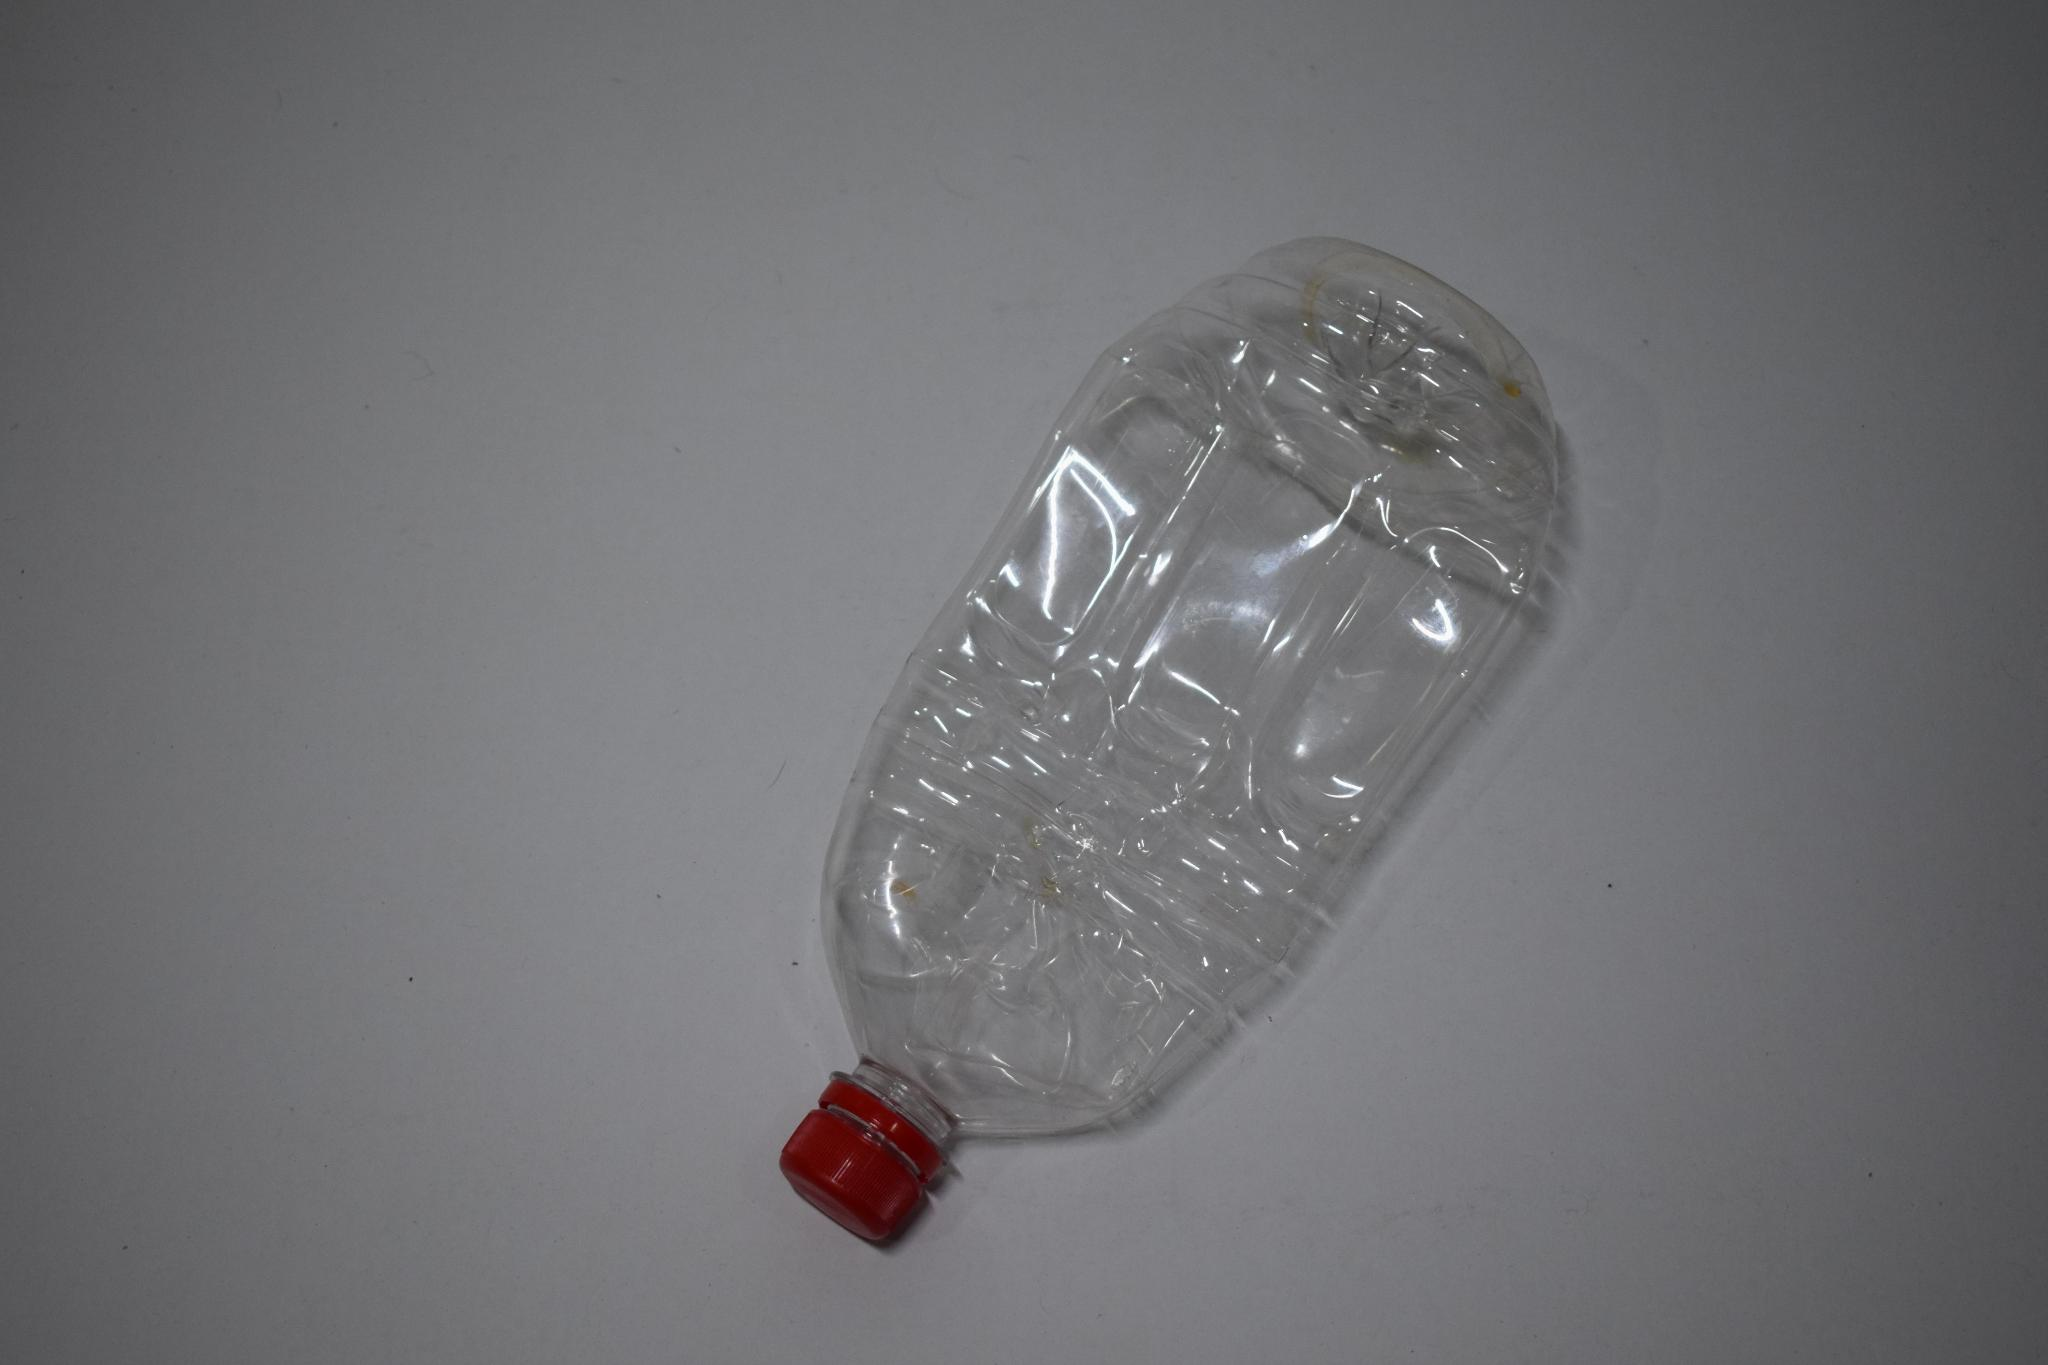bottle: (778, 188, 1620, 1246)
